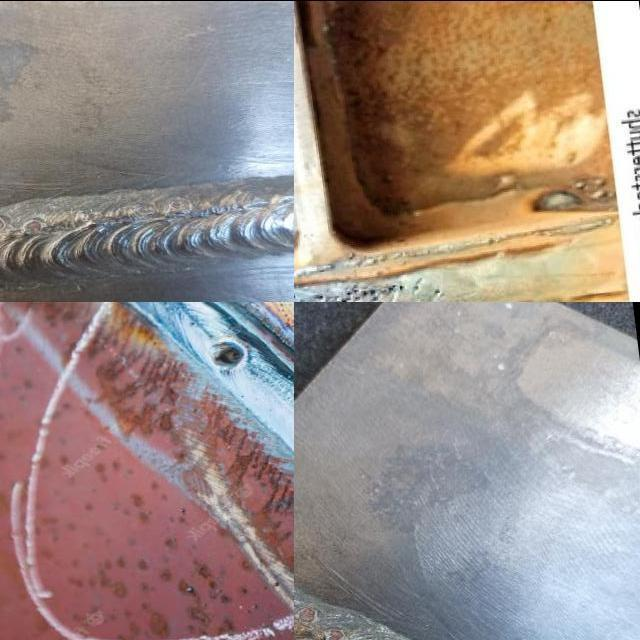defect: (334, 278, 447, 301), (208, 339, 249, 373), (127, 201, 154, 221), (294, 605, 319, 626), (164, 199, 188, 219), (316, 625, 348, 640), (19, 220, 47, 237), (0, 214, 7, 232)
